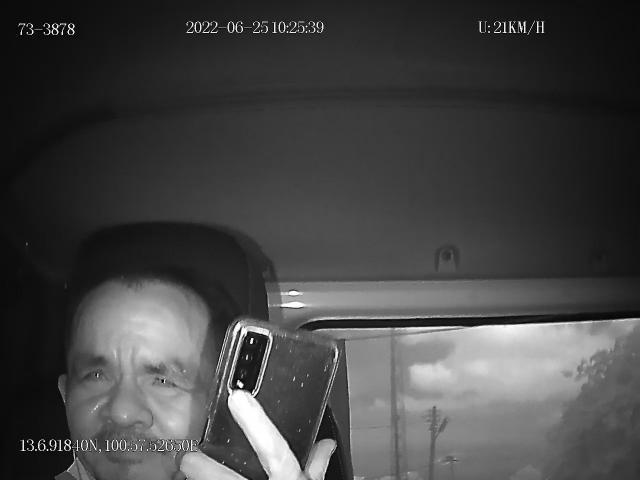PhoneUse: (194, 318, 338, 480)
SafeDriving: (143, 360, 189, 398), (72, 356, 116, 391)
